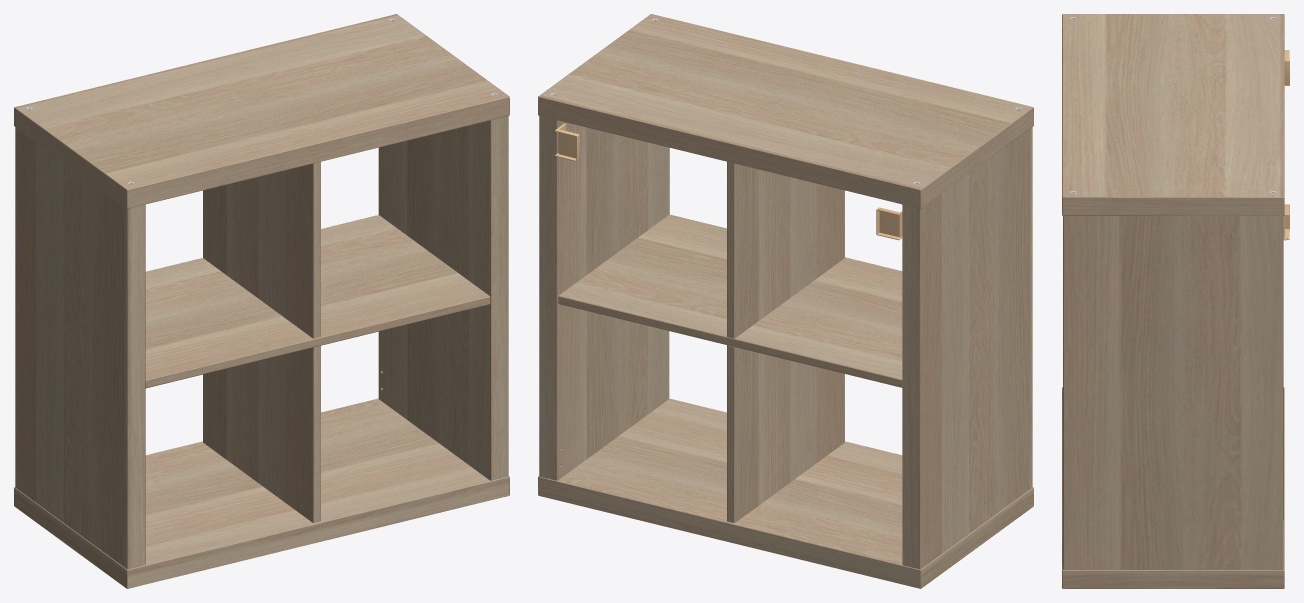
File: KALLAX_60324520.glb
The picture shows the model from 3 angles, left to right: view 1: azimuth 30°, elevation 25°; view 2: azimuth 150°, elevation 25°; view 3: azimuth 270°, elevation 25°; orthographic projection.
Visible parts, largest first — view 1: model; view 2: model; view 3: model.
Boxes of the visible parts, x1,y1,x2,y2 form: model: [14, 14, 509, 588]; model: [538, 14, 1033, 588]; model: [1062, 14, 1289, 588].
Bounding box in the file's own units: 0.765 × 0.7655 × 0.4012.
1 material, 1 textured.
